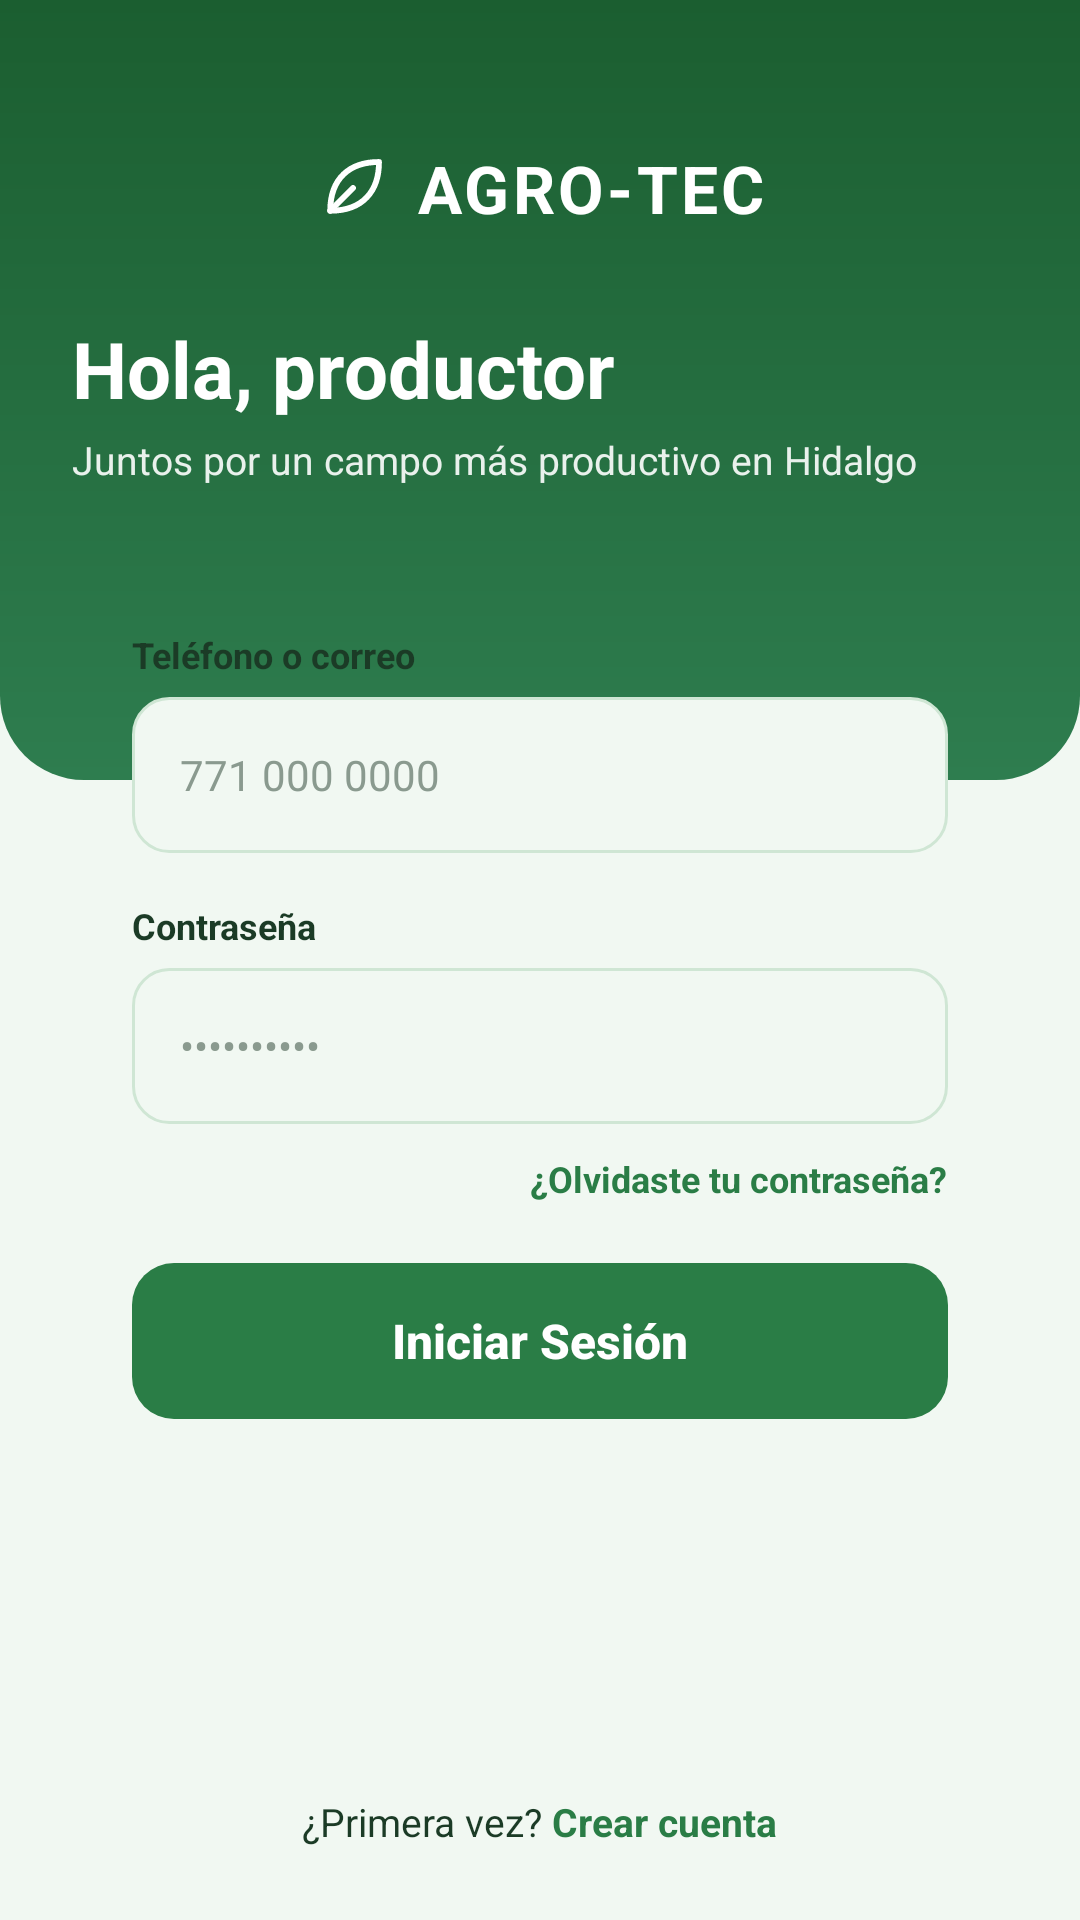

Point at icon controls on the screen. Image size 1080x1920, points as (x,y).
leaf: (354,186)
